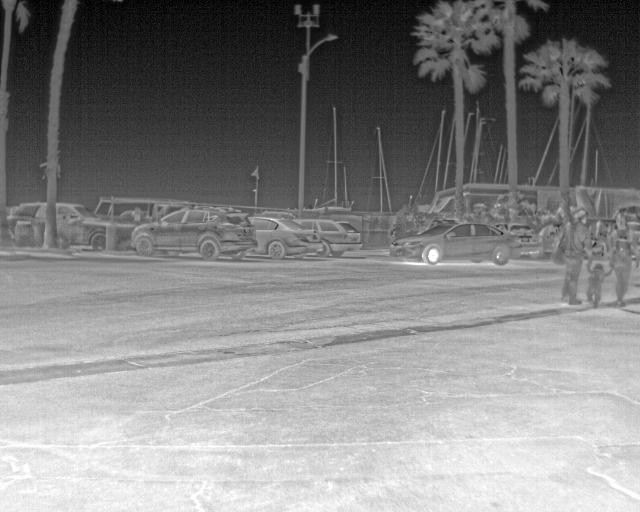bicycle: (129, 201, 258, 259), (386, 222, 515, 265), (245, 214, 323, 260), (291, 216, 365, 260), (54, 197, 106, 252), (1, 200, 45, 250), (504, 222, 546, 260)
empty: (561, 212, 588, 303), (611, 228, 630, 303), (586, 258, 606, 309)
